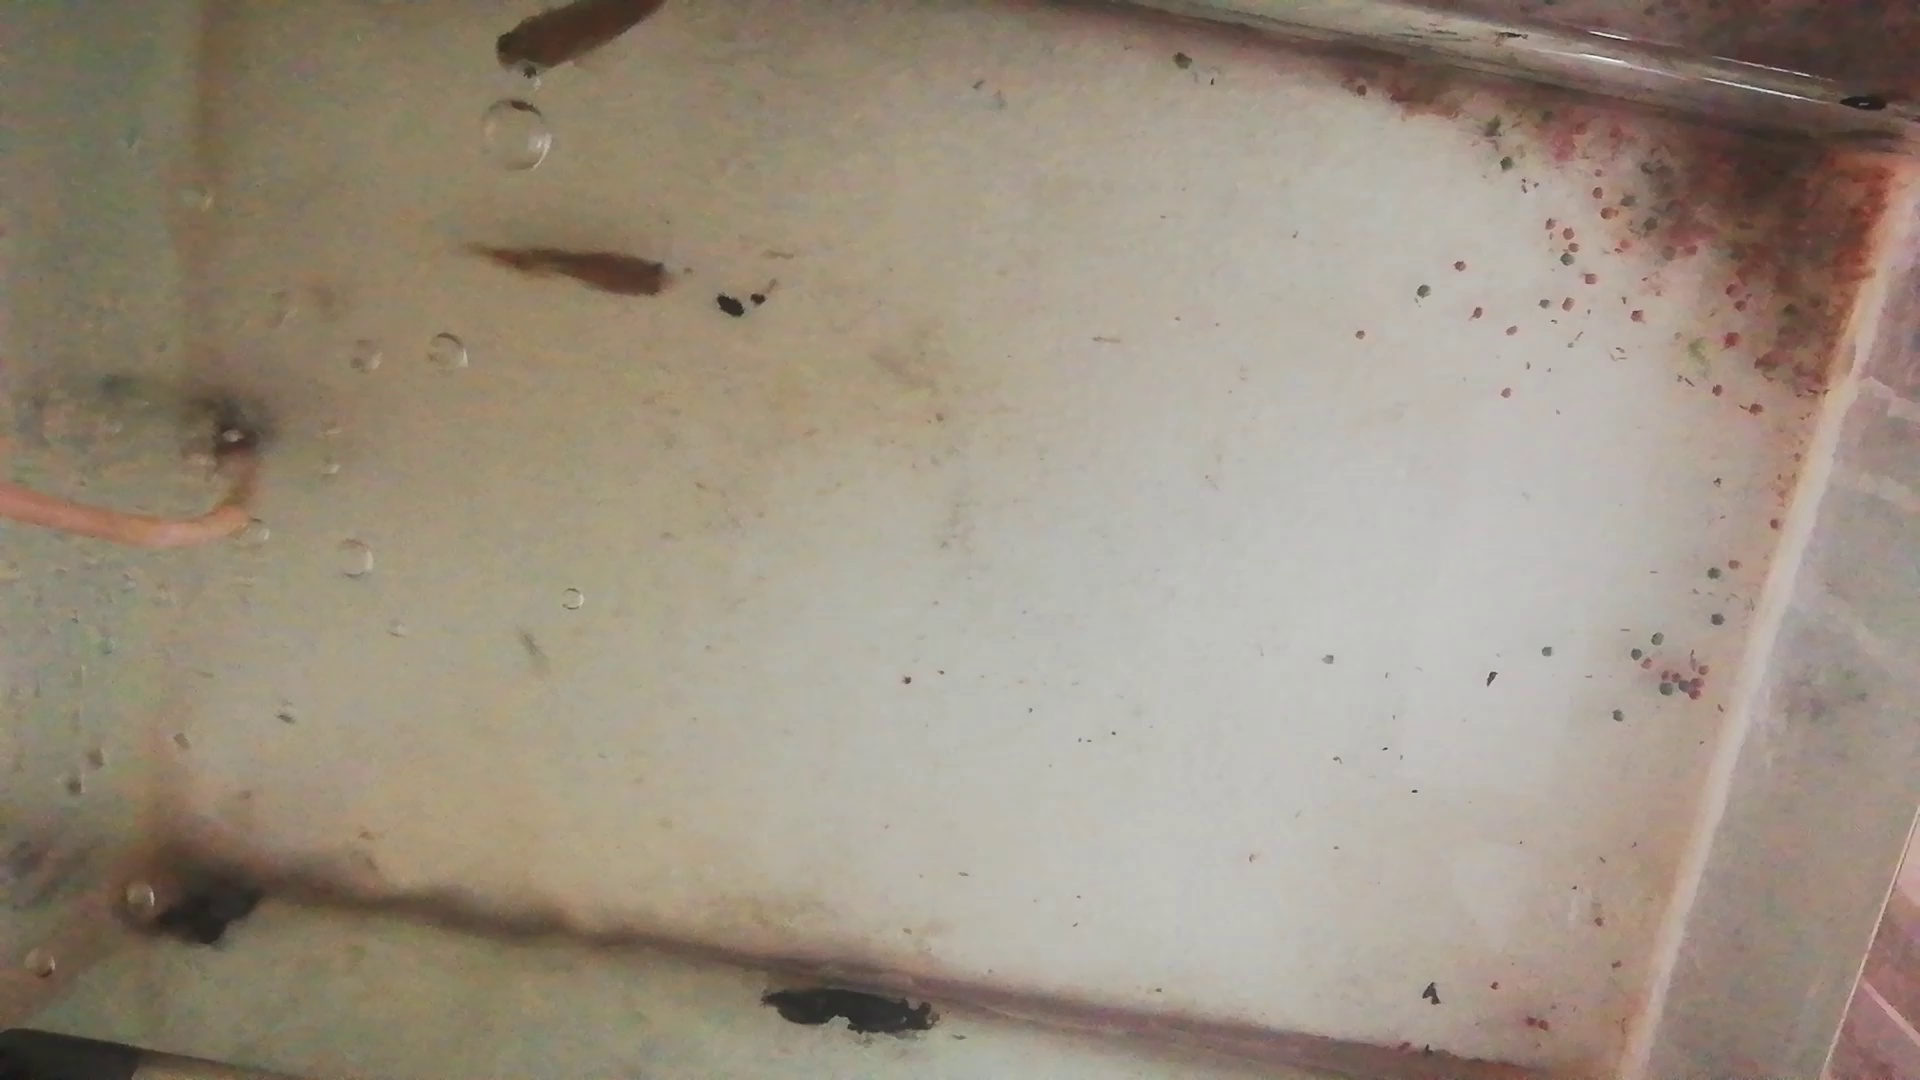fish: (462, 239, 674, 306), (487, 7, 678, 73)
